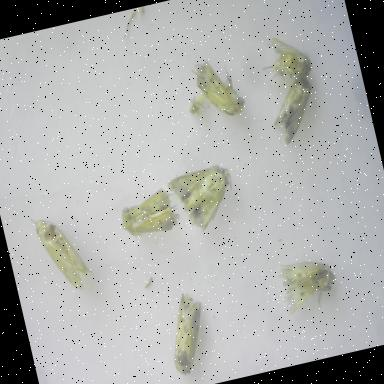abw: (28, 204, 102, 303), (162, 159, 246, 243), (156, 284, 219, 380), (261, 70, 329, 152), (272, 248, 346, 322), (184, 47, 250, 127), (115, 184, 188, 250), (252, 24, 320, 92)
